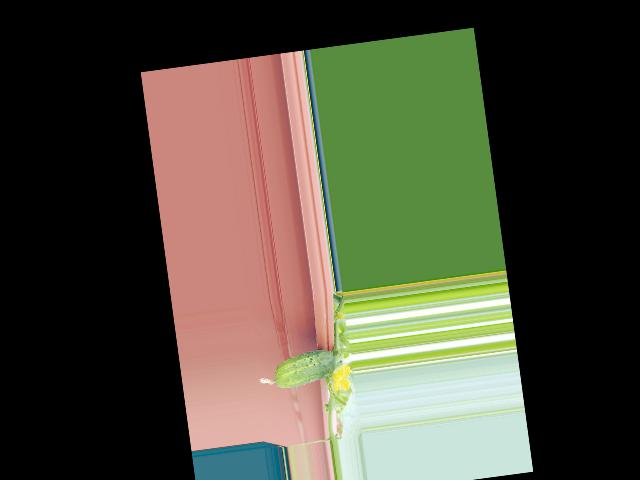cucumber: (256, 348, 338, 392)
